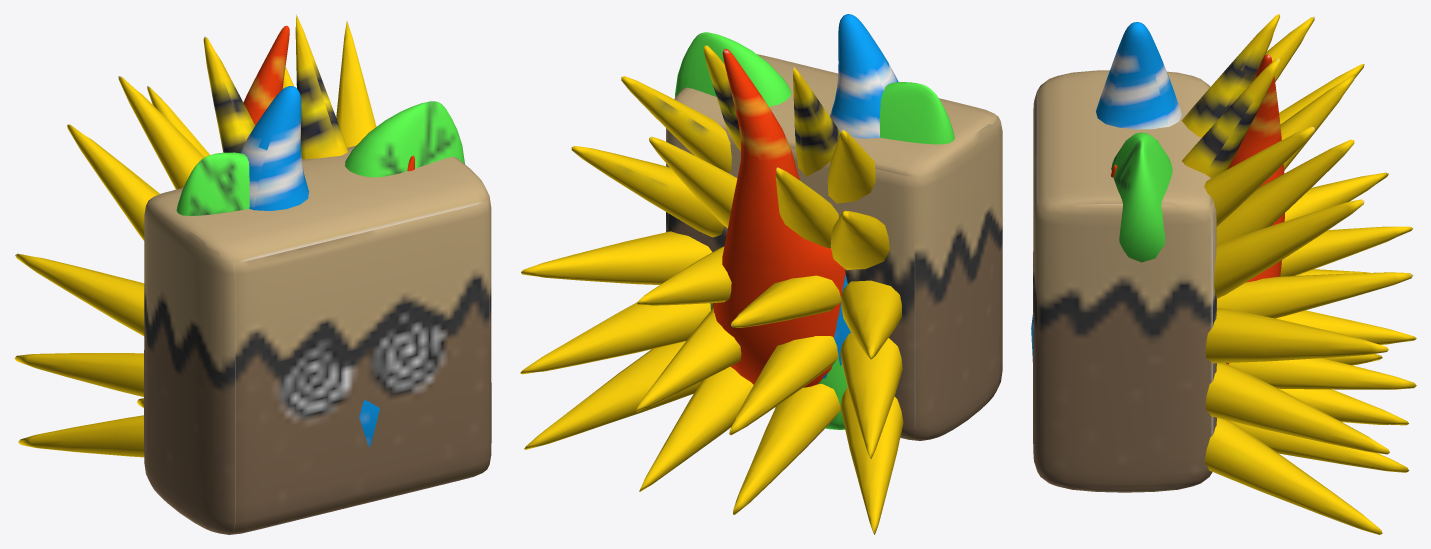
File: All4.fbx
3 views of the same model, side by side, from view 1: azimuth 30°, elevation 25°; view 2: azimuth 150°, elevation 25°; view 3: azimuth 270°, elevation 25° (orthographic). The views are drawn at different scales.
Parts seen in each view (by area): view 1: Cube.033, Cube.031, Cube.029, Plane.029, Plane.028; view 2: Cube.031, Cube.033, Plane.028, Cube.029, Plane.029; view 3: Cube.031, Cube.033, Plane.029, Cube.029, Plane.028.
Boxes of the visible parts, left/top/right/bottom form: Cube.033: left=144, top=146, right=491, bottom=534; Cube.031: left=14, top=14, right=376, bottom=457; Cube.029: left=176, top=101, right=464, bottom=215; Plane.029: left=239, top=86, right=379, bottom=446; Plane.028: left=243, top=26, right=414, bottom=171; Cube.031: left=520, top=45, right=903, bottom=534; Cube.033: left=666, top=54, right=1002, bottom=440; Plane.028: left=711, top=49, right=845, bottom=387; Cube.029: left=675, top=32, right=954, bottom=429; Plane.029: left=822, top=14, right=898, bottom=378; Cube.031: left=1182, top=14, right=1416, bottom=534; Cube.033: left=1033, top=70, right=1216, bottom=492; Plane.029: left=1031, top=22, right=1182, bottom=361; Cube.029: left=1111, top=132, right=1225, bottom=363; Plane.028: left=1111, top=54, right=1284, bottom=364.
Bounding box in the file's own units: 1.98 × 2.18 × 1.84.
Materials: 1 (1 with a texture image).
